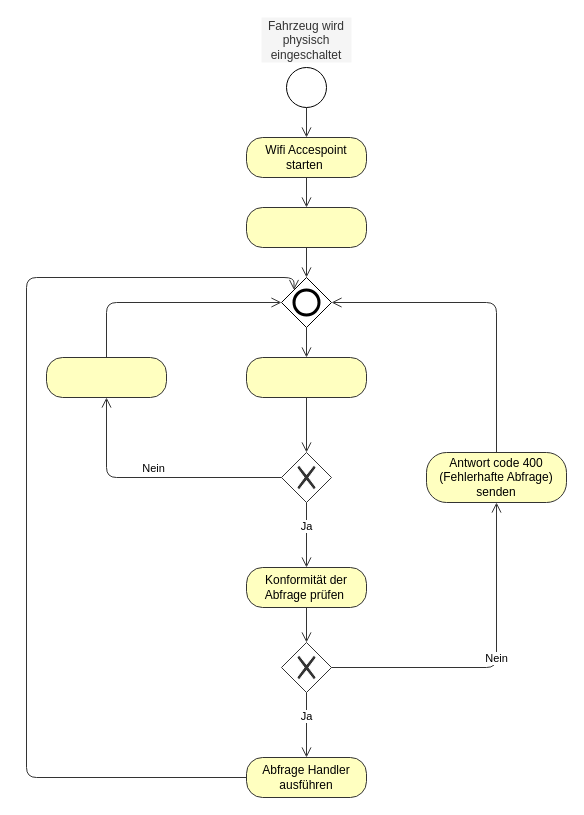
The diagram is 584 pixels wide and 815 high, and some of its shapes have lost their labels. The shapes that lost their labels are listed below. From the top down, each one's centre as x and y in pixels, then its label:
the point at 306,227: webserver starten
the point at 106,377: 300 ms warten
the point at 306,377: Abfrage erhalten
